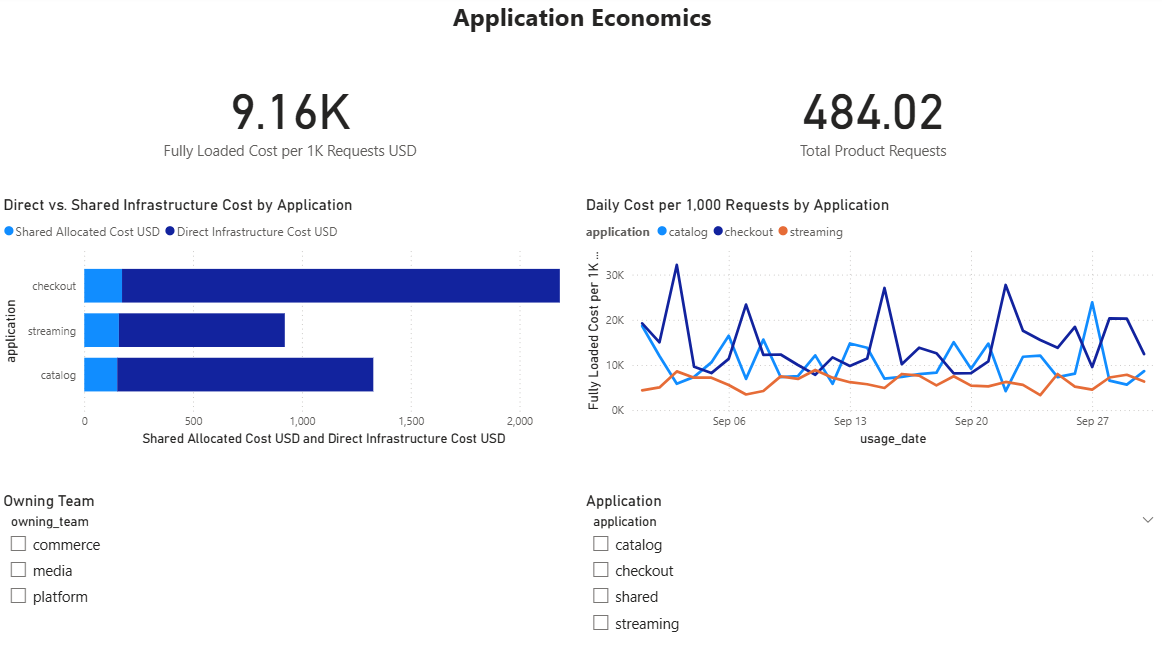

The dashboard page shown, as its layout file describes it:
{"tool":"powerbi","page":{"name":"Application Economics","canvas":[1280,720],"ordinal":1},"visuals":[{"type":"card","fields":{"Values":["dim_date.Fully Loaded Cost per 1K Requests USD"]},"box":[0,64.5,639.5,134.5],"z":0},{"type":"card","fields":{"Values":["dim_date.Total Product Requests"]},"box":[639.5,64.5,640.8,134.5],"z":1},{"type":"barChart","title":"Direct vs. Shared Infrastructure Cost by Application","fields":{"Category":["dim_application.application"],"Y":["dim_date.Shared Allocated Cost USD","dim_date.Direct Infrastructure Cost USD"]},"box":[0,219.6,639.5,279.9],"z":2},{"type":"lineChart","title":"Daily Cost per 1,000 Requests by Application","fields":{"Category":["dim_date.usage_date"],"Y":["dim_date.Fully Loaded Cost per 1K Requests USD"],"Series":["dim_application.application"]},"box":[639.5,219.6,640.8,279.9],"z":3},{"type":"slicer","title":"Application","fields":{"Values":["dim_application.application"]},"box":[639.5,544.8,640.8,175.6],"z":4},{"type":"slicer","title":"Owning Team","fields":{"Values":["dim_application.owning_team"]},"box":[0,544.8,639.5,175.6],"z":5},{"type":"textbox","box":[0,0,1280.3,64.5],"z":6}]}

Visuals, with their boxes in screenshot pixels (x1, y1, x2, y2), scaled from the page's 1280x720 canvas onto the 1162x650 screenshot:
card - dim_date.Fully Loaded Cost per 1K Requests USD: <box>0,58,581,180</box>
card - dim_date.Total Product Requests: <box>581,58,1161,180</box>
"Direct vs. Shared Infrastructure Cost by Application" barChart: <box>0,198,581,451</box>
"Daily Cost per 1,000 Requests by Application" lineChart: <box>581,198,1161,451</box>
"Application" slicer: <box>581,492,1161,649</box>
"Owning Team" slicer: <box>0,492,581,649</box>
textbox: <box>0,0,1161,58</box>
